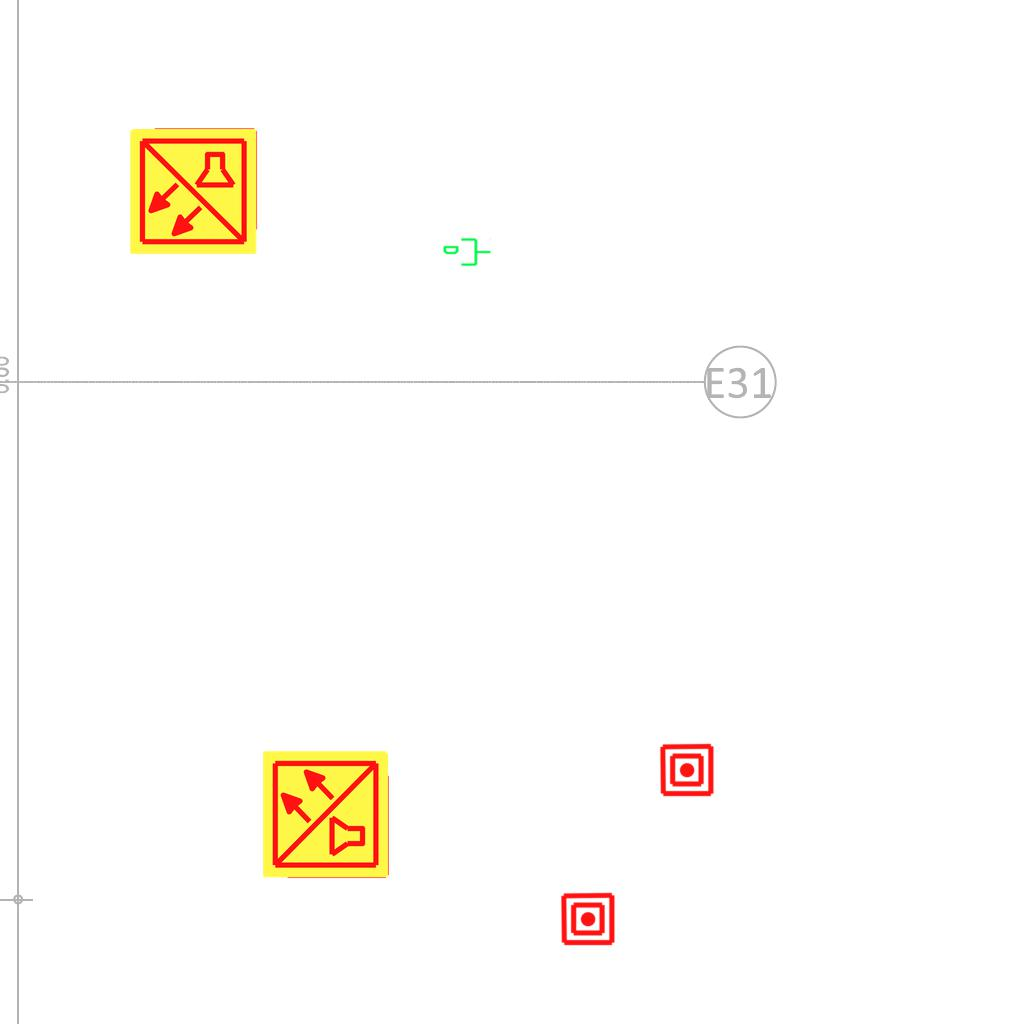Datenanschluss_einfach: (442, 236, 492, 270)
NAM-Nichtautomatischer_Melder: (659, 742, 715, 798), (560, 891, 616, 947)
OKW_Multisensormelder_(Kombination_optischer_Rauch-Kahlenmonoxid_Waerme-Melder): (127, 125, 259, 257), (260, 748, 392, 880)
